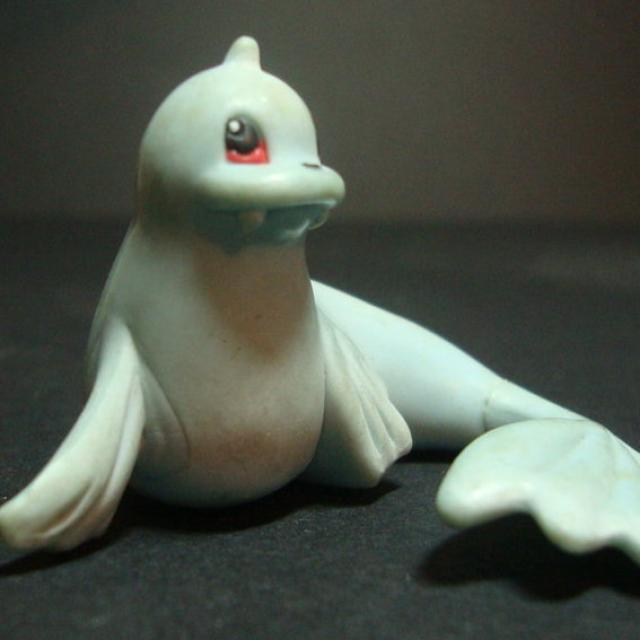Dewgong: (72, 34, 634, 546)
